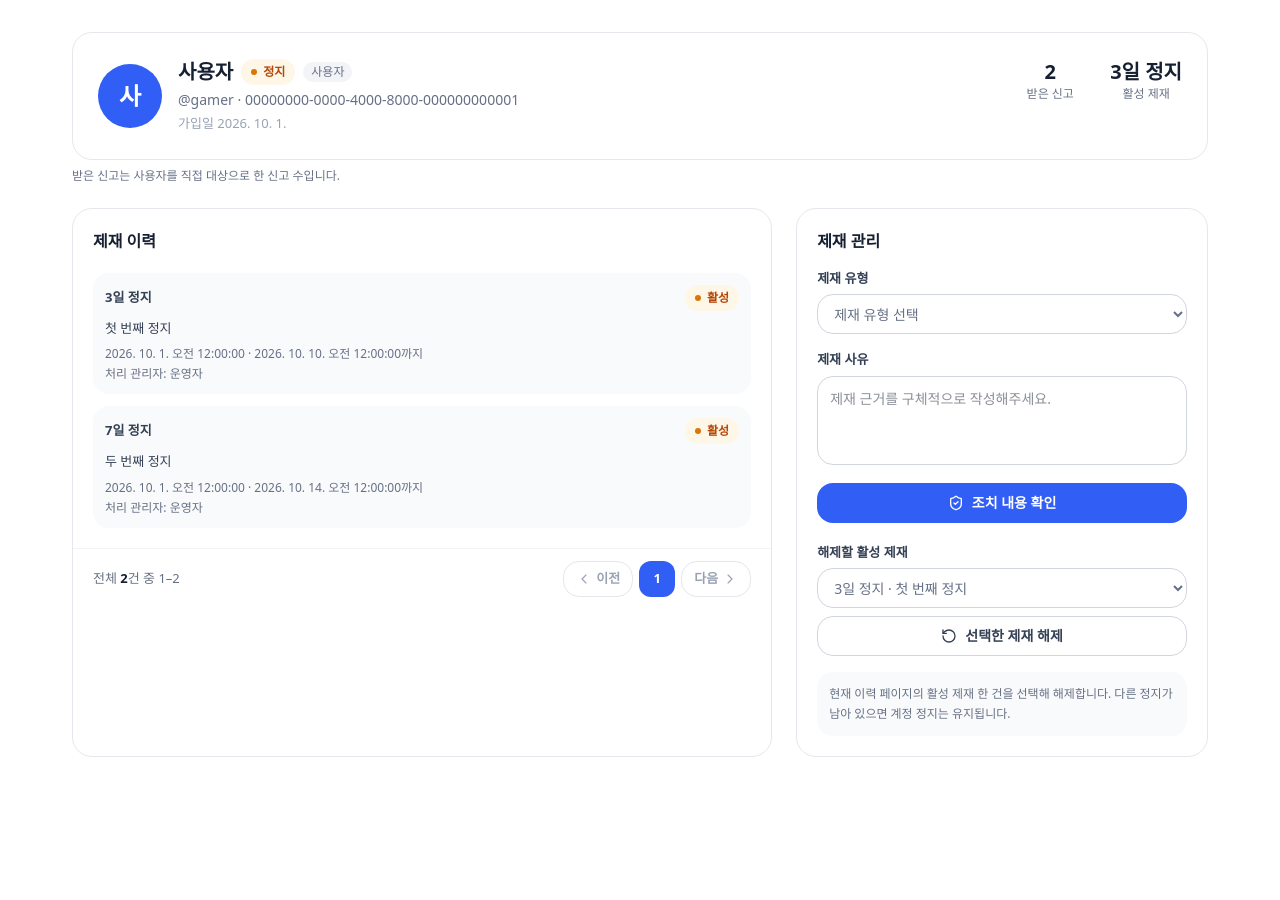
Scenario: 관리자 사용자 상세 실제 제재 흐름 › 선택한 활성 제재만 해제하고 남은 정지 상태를 서버 재조회로 유지한다
The image size is (1280, 900).
Select "3일 정지 · 첫 번째 정지" in the dropdown labelled "해제할 활성 제재": (1002, 588) top-left (817, 568), bottom-right (1187, 608)
Click the button "선택한 제재 해제": click(1002, 636) top-left (817, 616), bottom-right (1187, 656)
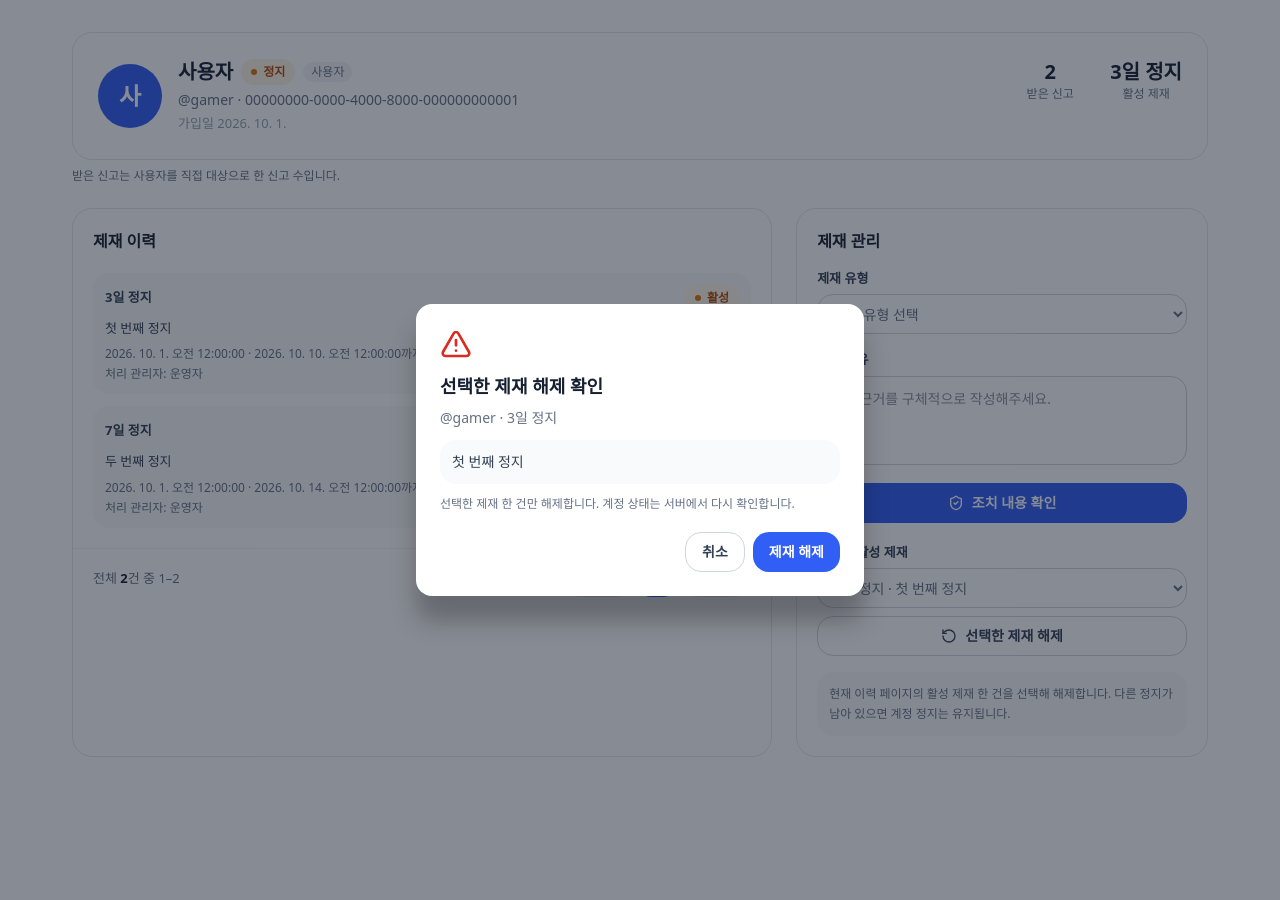
Click the button "제재 해제": click(796, 552) top-left (753, 532), bottom-right (840, 572)
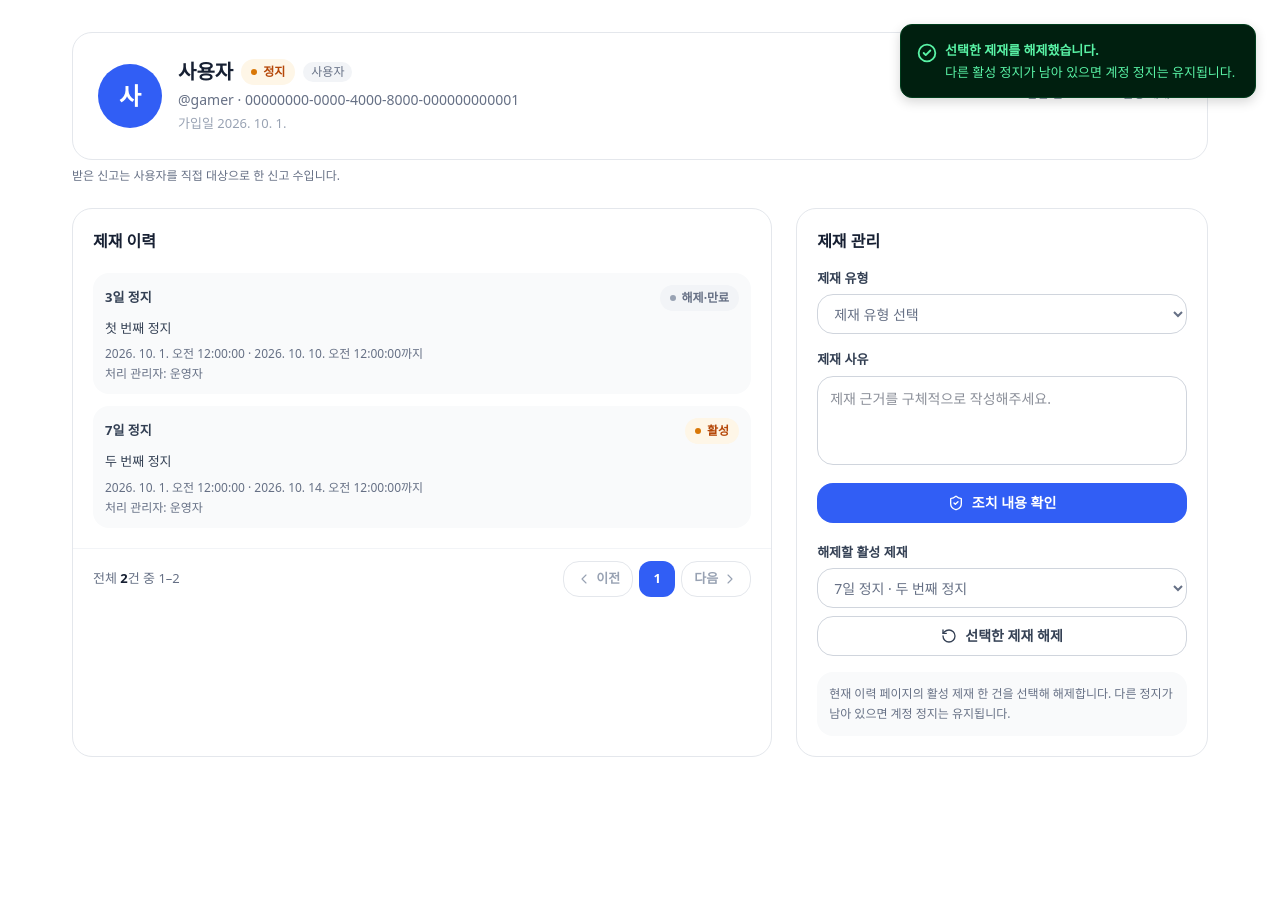
Expected: the text "정지" is shown, top-left (241, 59), bottom-right (295, 85)
Now the text "선택한 제재를 해제했습니다." is shown, box top-left (945, 41), bottom-right (1099, 59)
